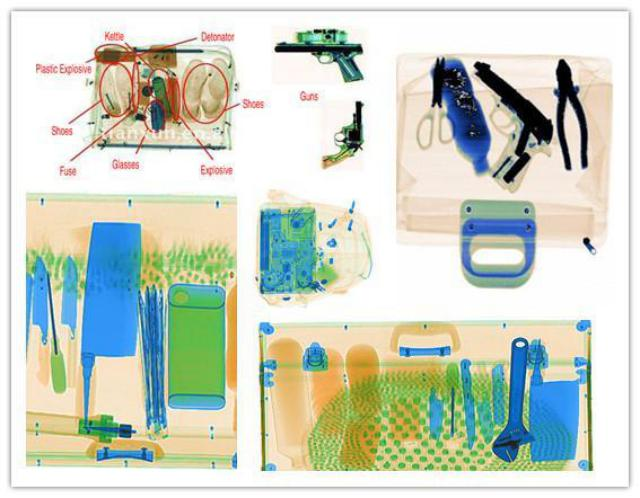Gun: (268, 28, 366, 82), (316, 94, 364, 167)
Knife: (78, 218, 142, 428), (410, 54, 456, 147), (57, 253, 79, 339), (29, 250, 47, 345)
Pliers: (552, 58, 590, 169)
Wrench: (488, 335, 536, 460)
